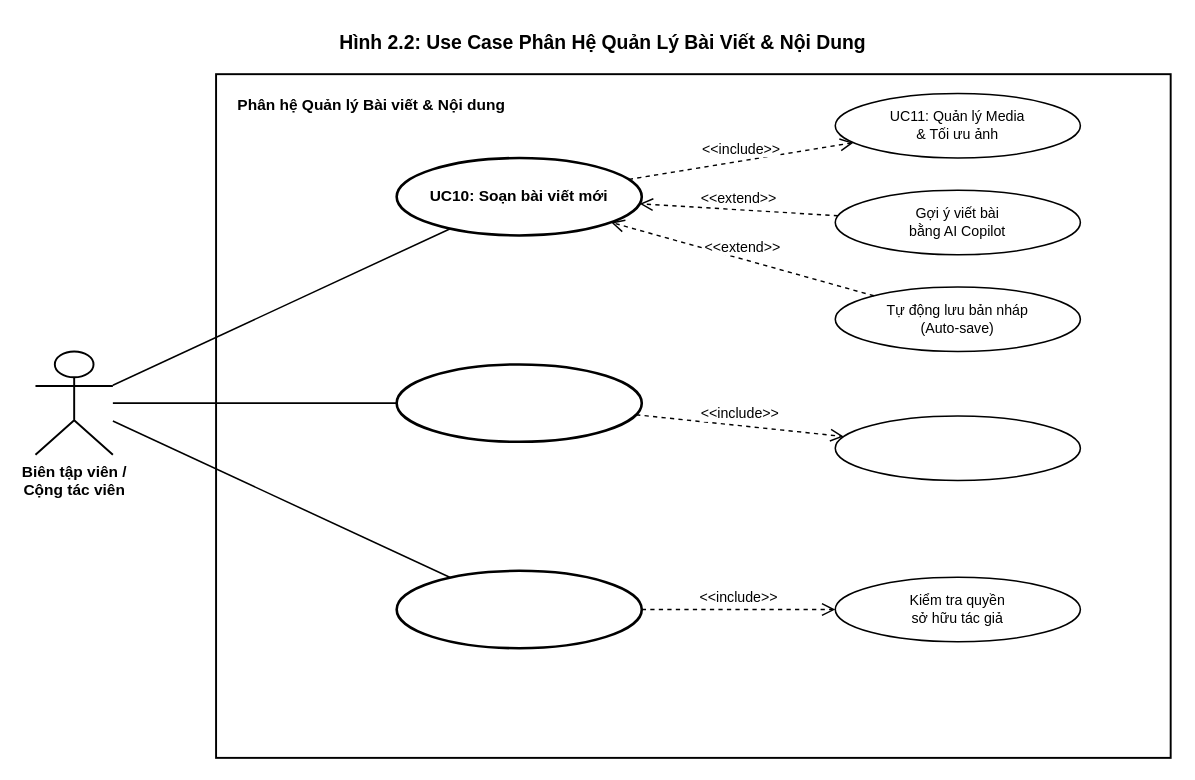
The diagram is 1195 pixels wide and 780 high, and some of its shapes have lost their labels. Each missing label, with the centre of its shape:
"Lưu vết lịch sử chỉnh sửa" goes at point 957,448.
"UC15: Chỉnh sửa bài viết" goes at point 518,402.
"Xóa & Phục hồi bài viết" goes at point 518,609.
